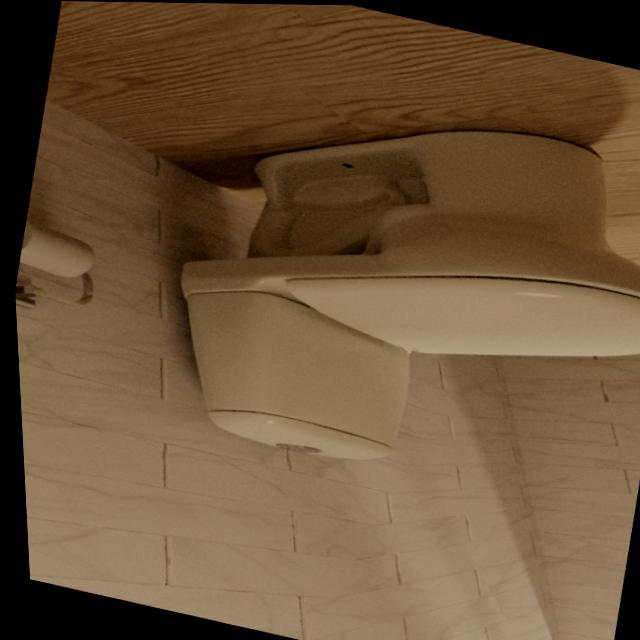toilet: (136, 61, 640, 526)
